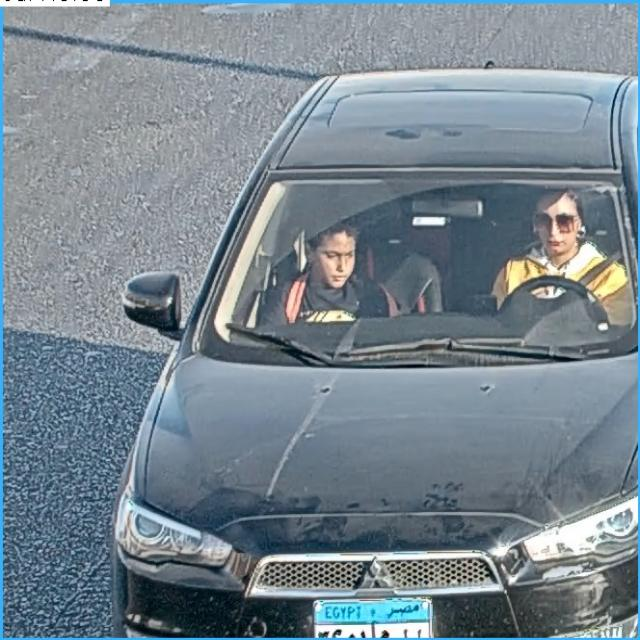windshield: (214, 182, 639, 355)
